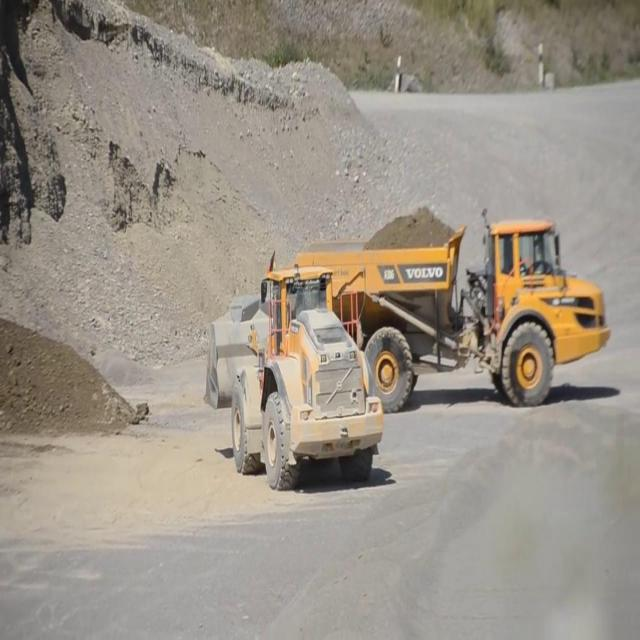Dump Truck: (294, 216, 612, 418)
Loader: (201, 260, 383, 492)
